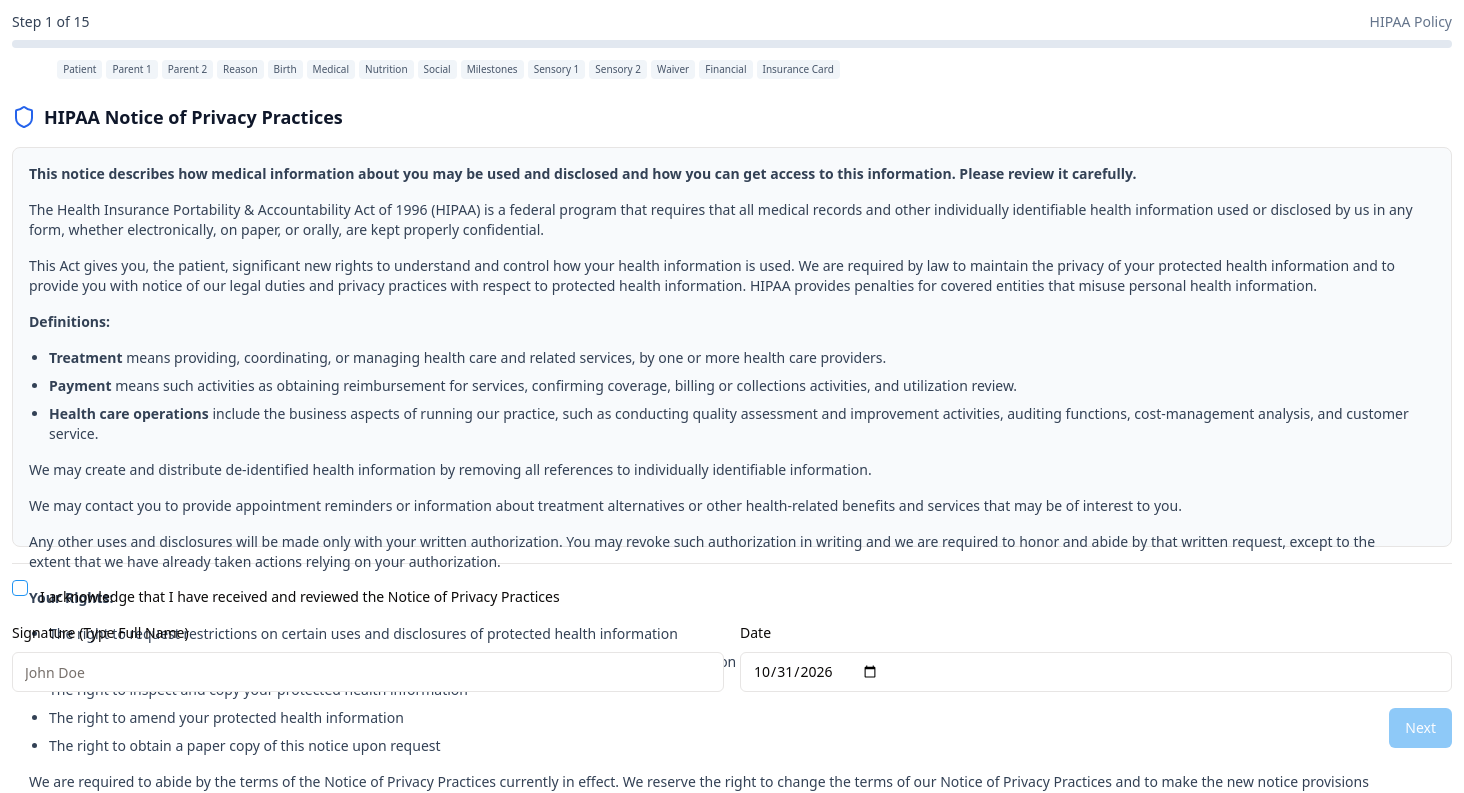
Test case: PatientIntakeForm › shows validation error for invalid email on step 2
This screenshot has width=1464, height=793.
Click the checkbox.
click(20, 588)  # box [12,580,28,596]
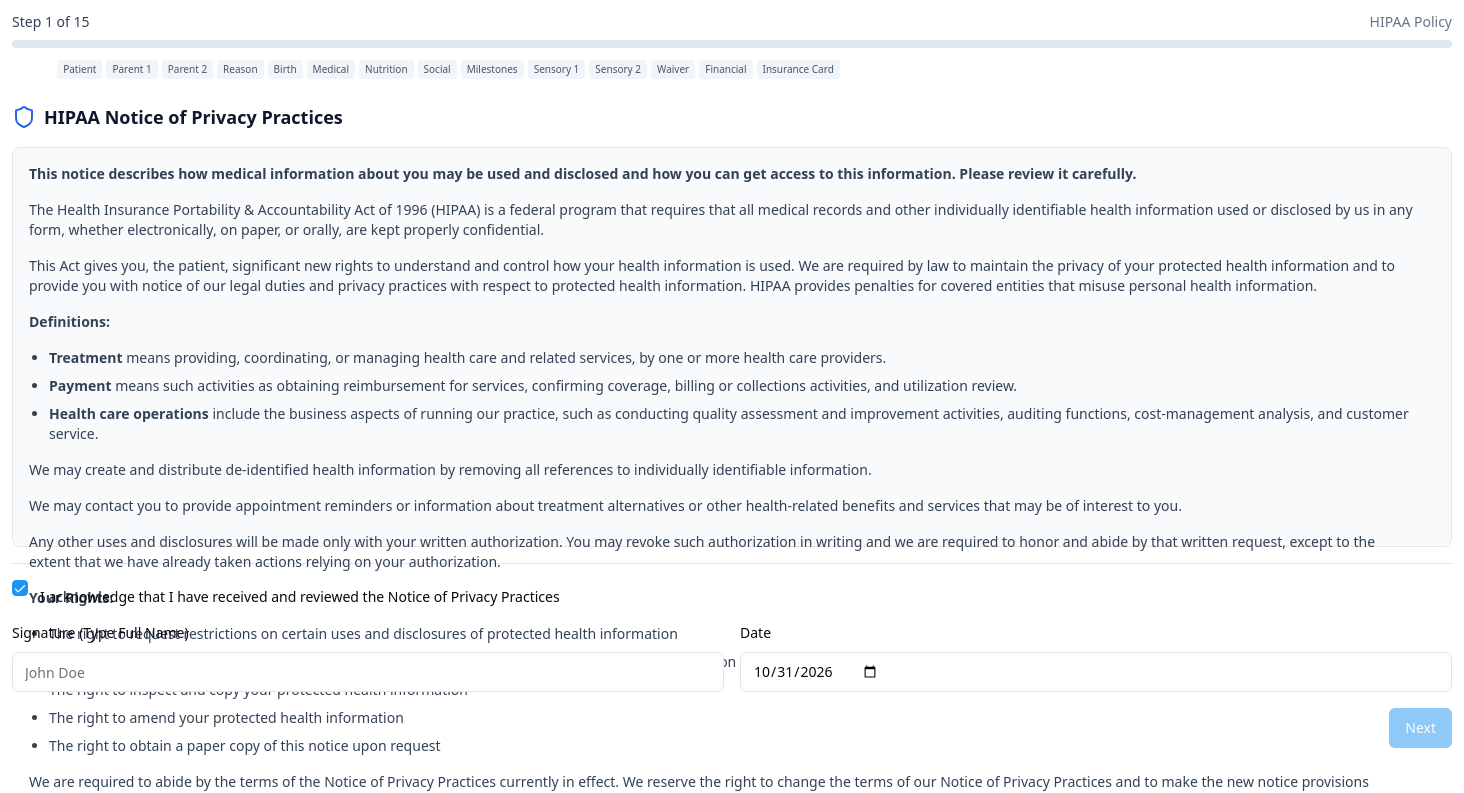
Type "Jane Smith" into the field with placeholder "John Doe".
click(368, 672); type("Jane Smith")  # box [12,652,724,692]
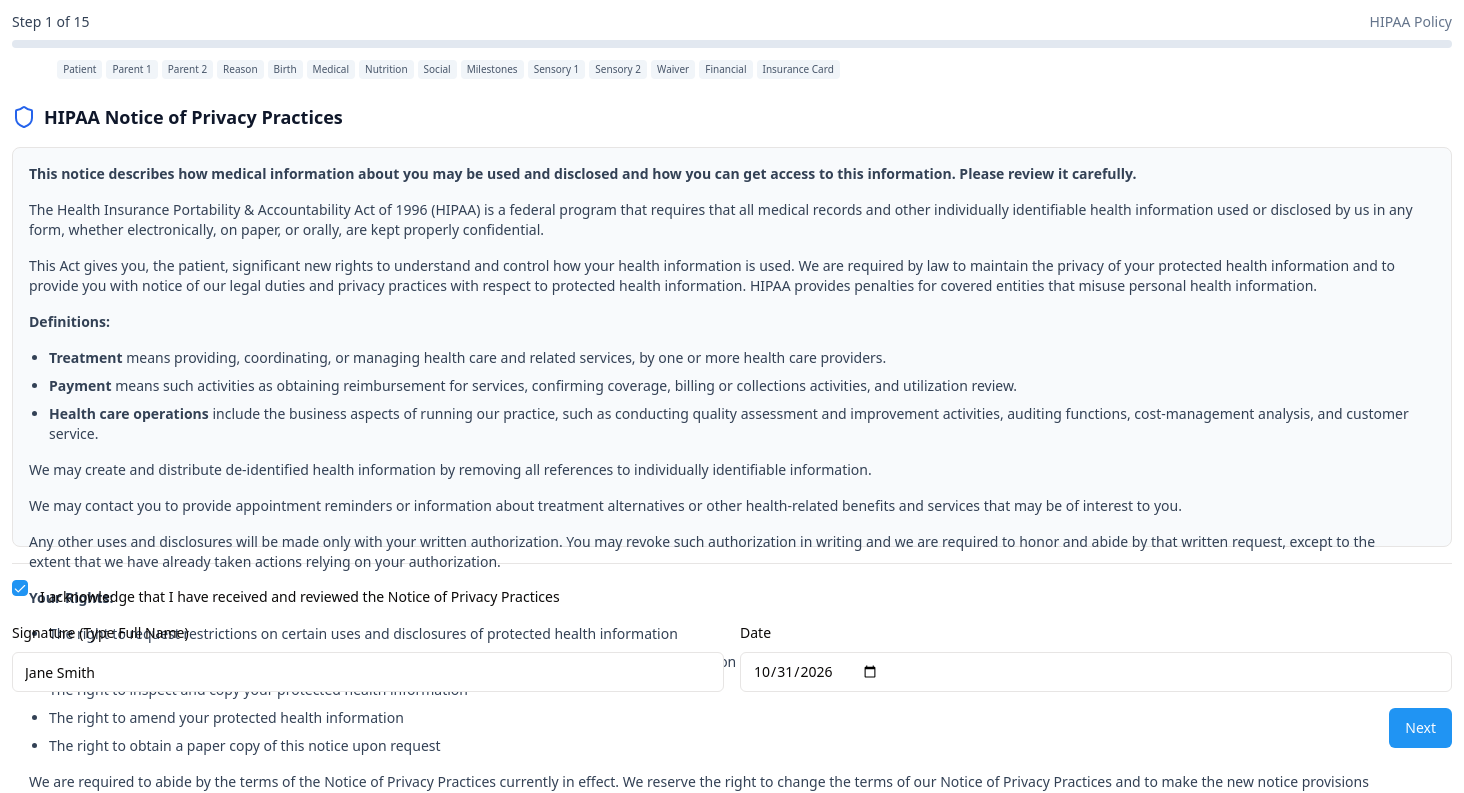
Click the button "Next".
click(1421, 728)  # box [1389,708,1452,748]
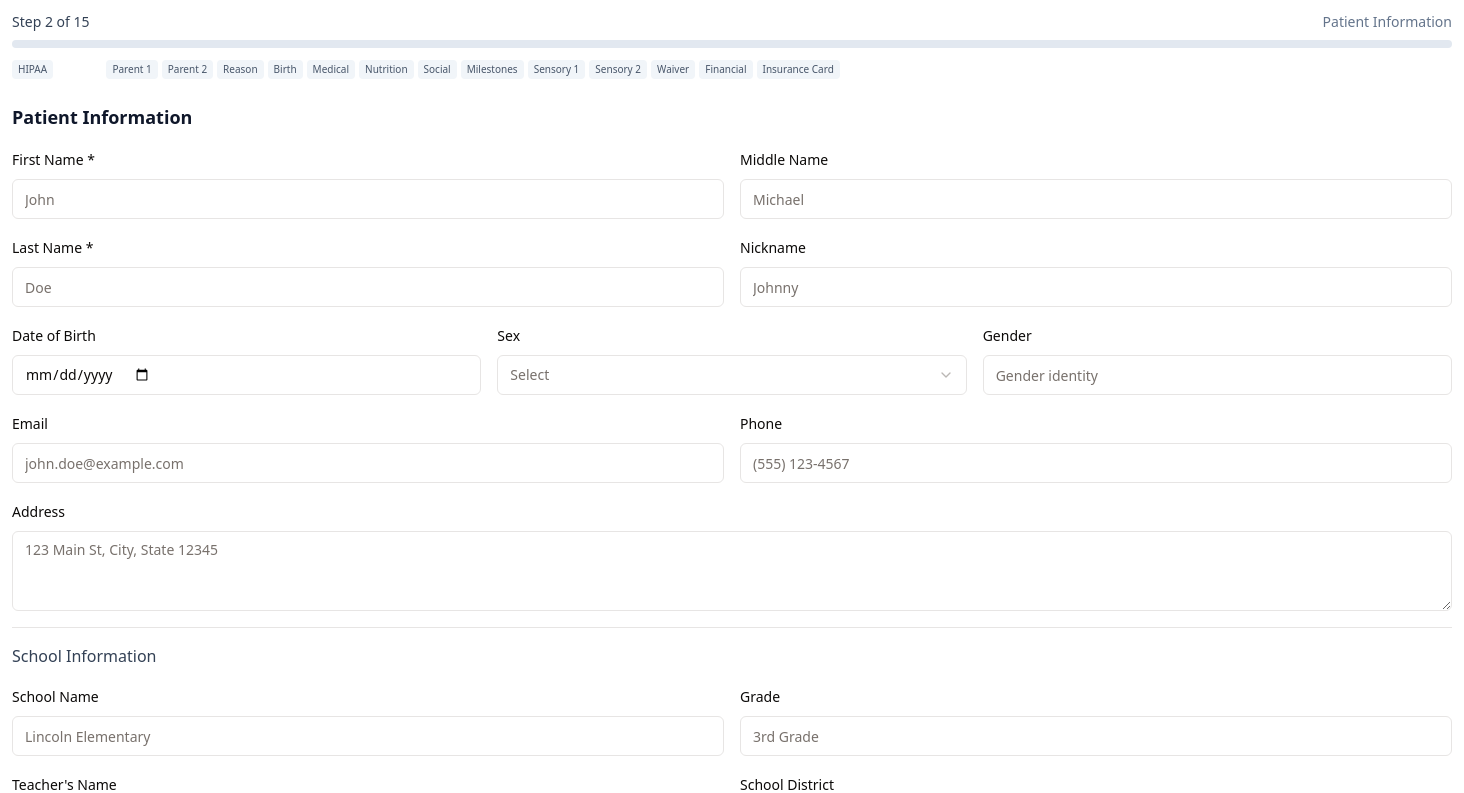
Check: the text "Patient Information" is shown, box [1323,12,1452,32]
Type "not-an-email" into the field with placeholder "john.doe@example.com".
click(368, 463); type("not-an-email")  # box [12,443,724,483]
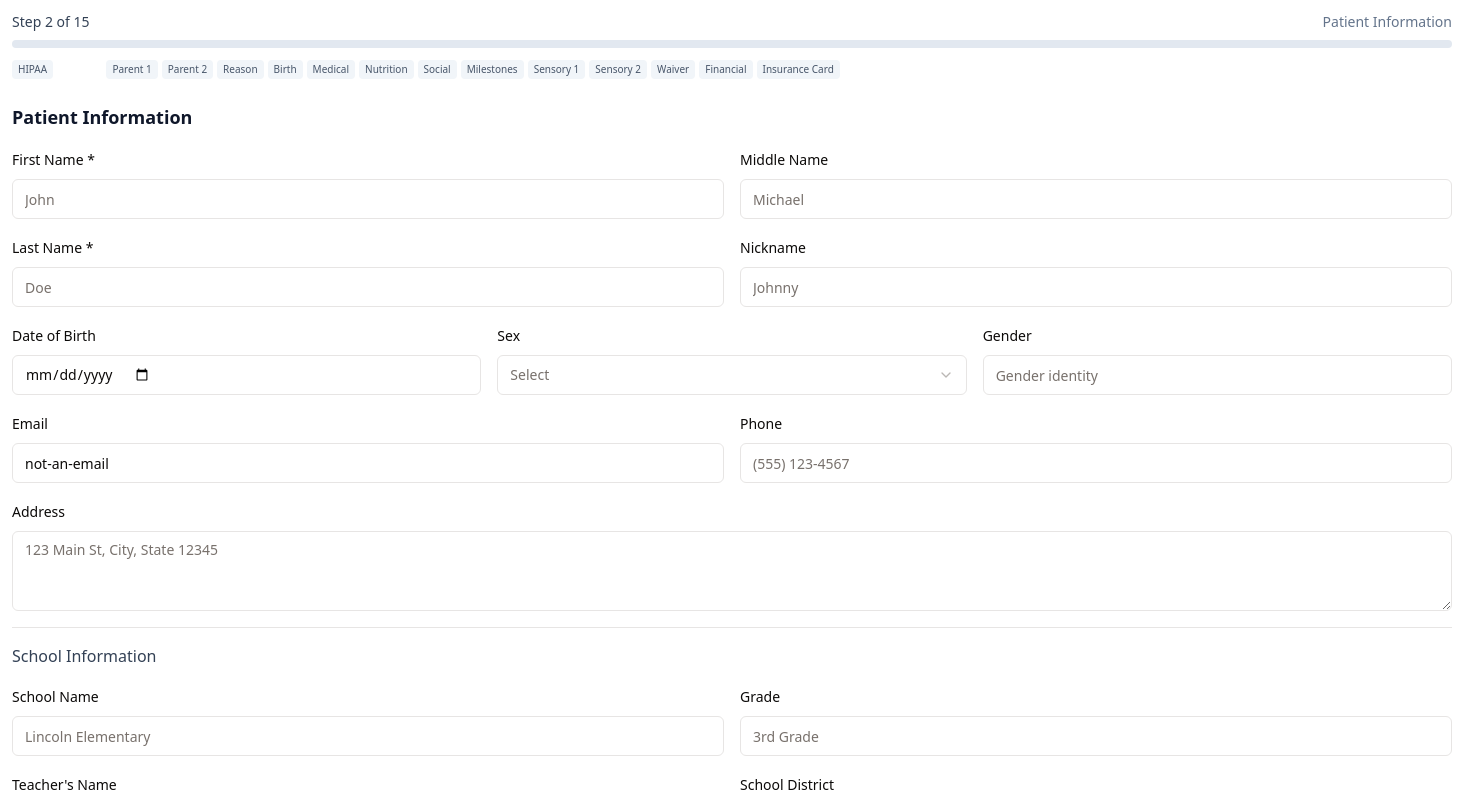
Leave the field with placeholder "john.doe@example.com", box [12,443,724,483]
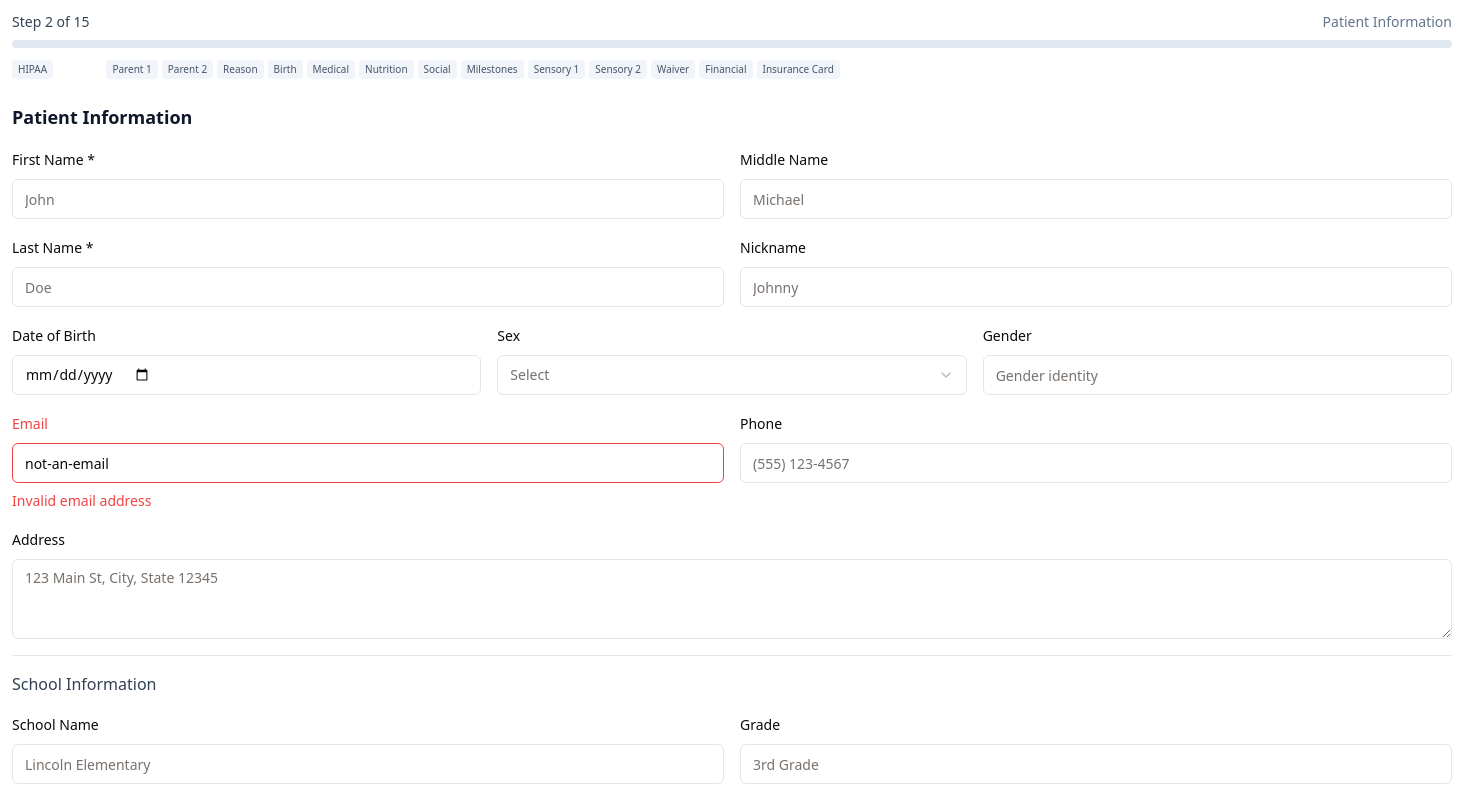
Check: the text "Invalid email address" is shown, box [12,491,151,510]
